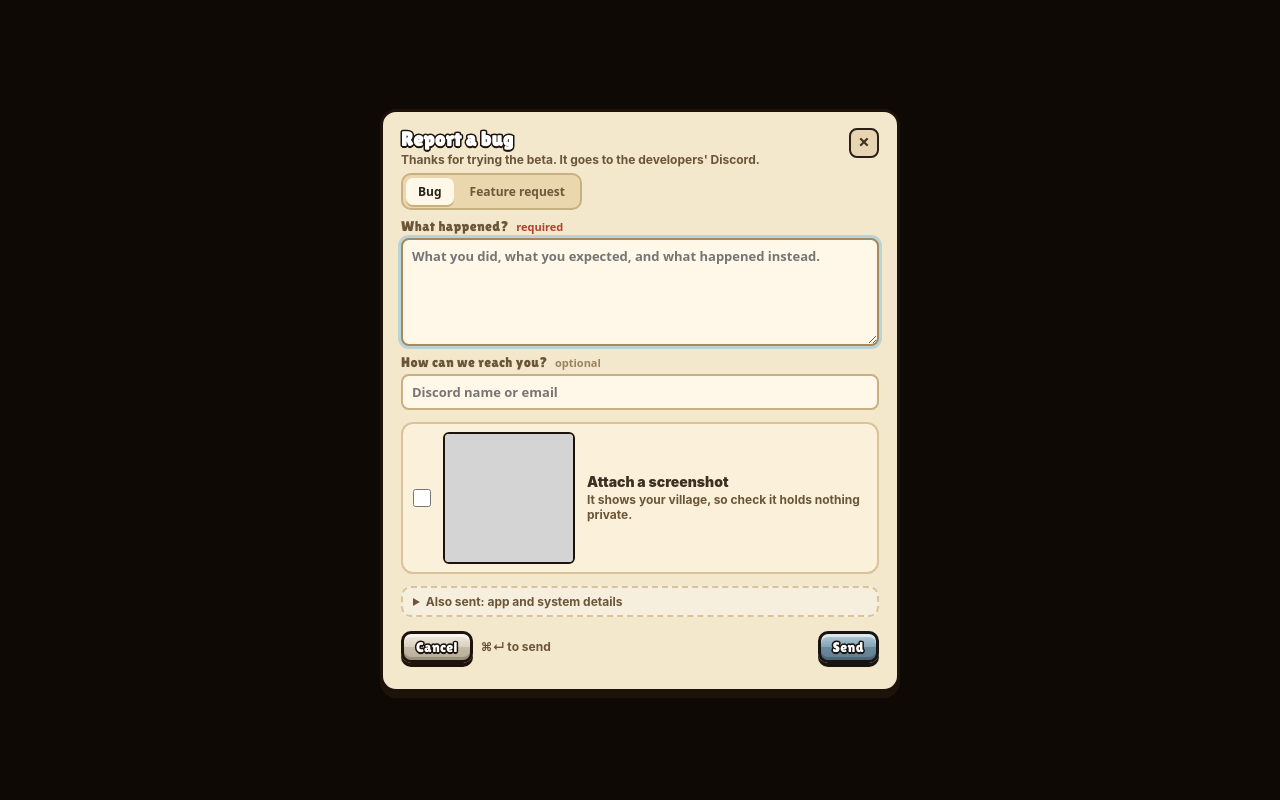
Test: sends the text, contact and details; the screenshot only when ticked
The image size is (1280, 800).
Expected: the button "Send" is disabled, [818, 630, 879, 662]
Step 1. Type "The house vanished" into the text box with placeholder "What you did, what you expected, and what happened instead." → (640, 292), box [401, 238, 879, 346]
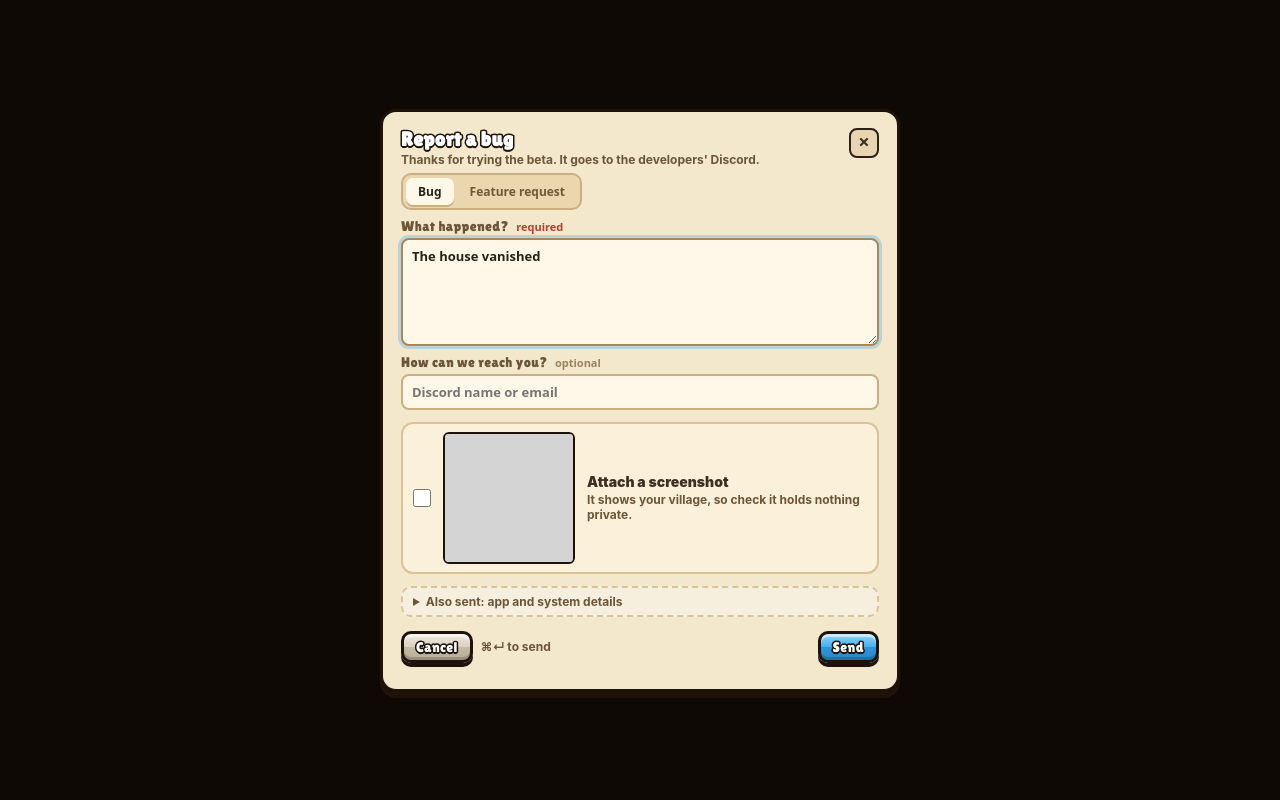
Step 2. Type "  ada  " into the field with placeholder "Discord name or email" → (640, 392), box [401, 374, 879, 410]
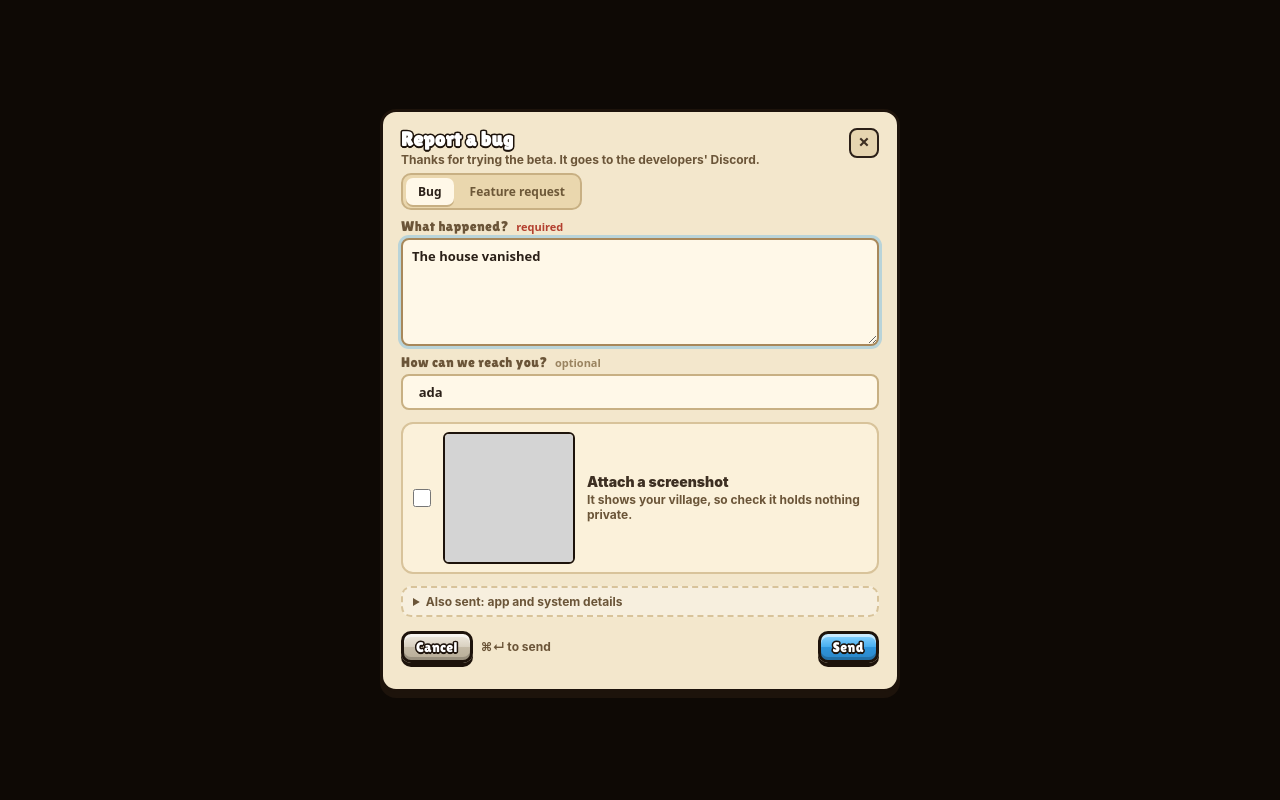
Step 3. Click the button "Send" → (848, 646), box [818, 630, 879, 662]
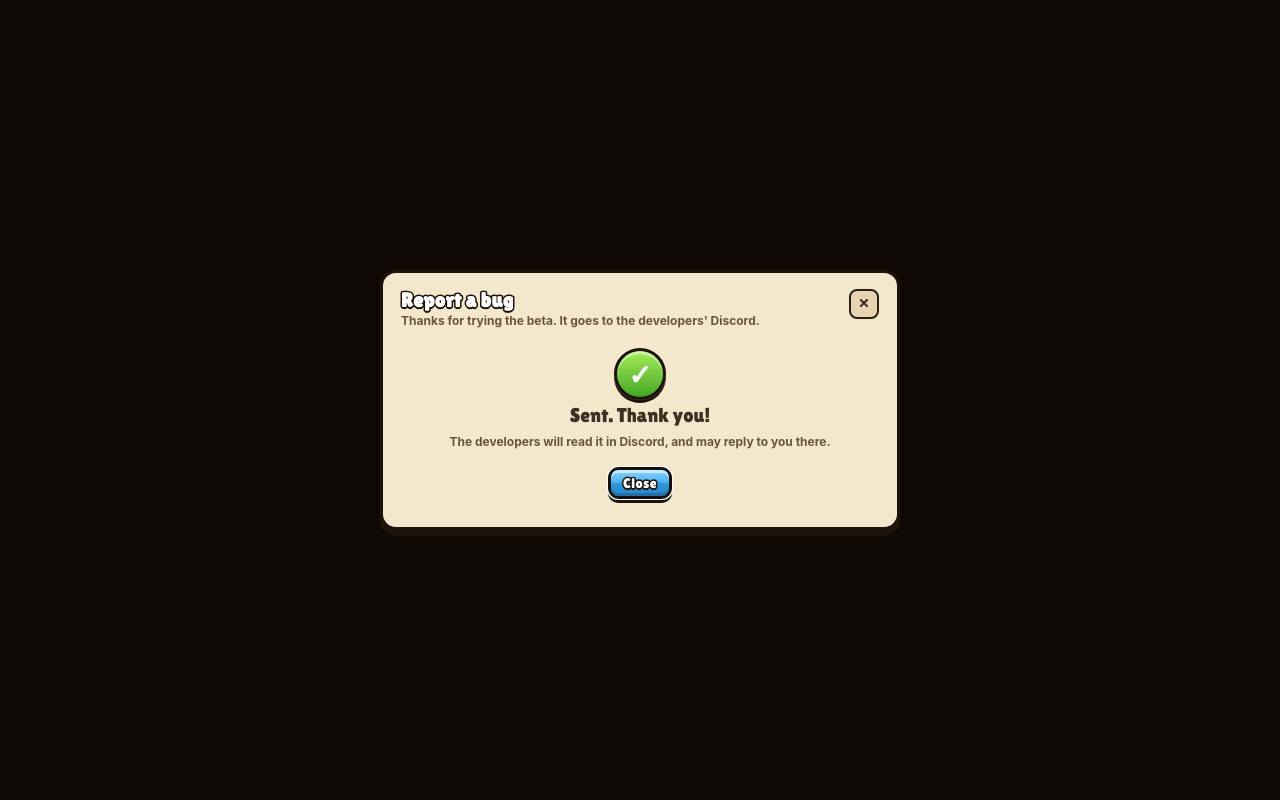
Expected: the text "Sent. Thank you!" is shown, [570, 404, 710, 426]
